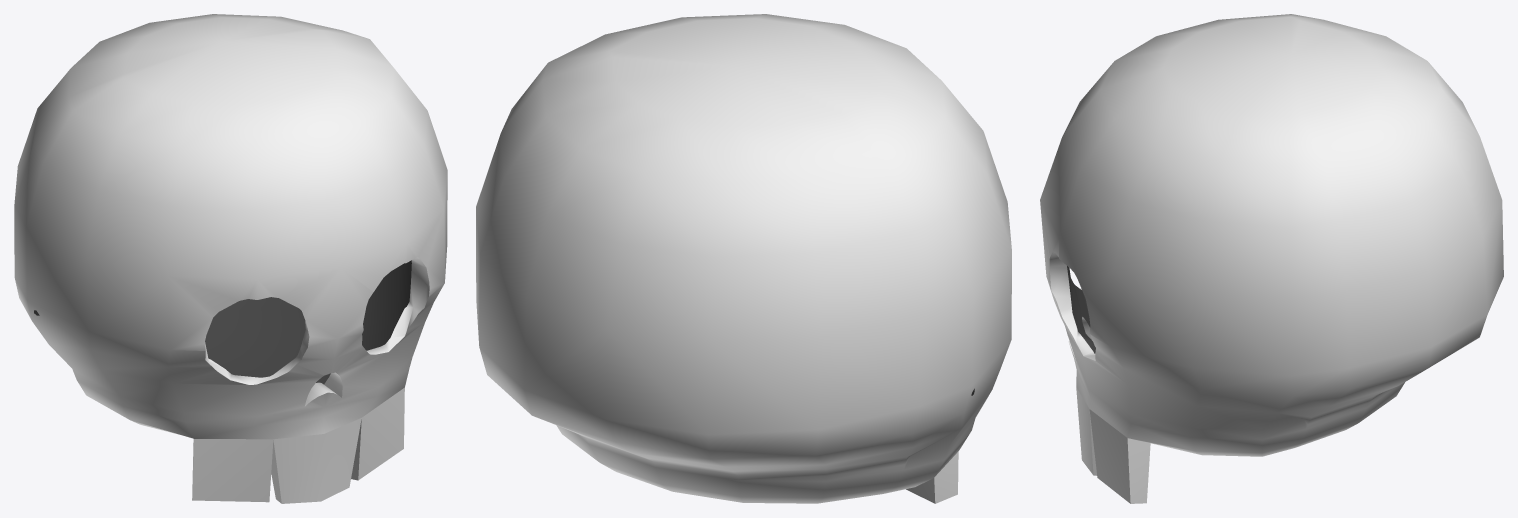
The model's file is skull.obj.
3 renders of one model, left to right at view 1: azimuth 30°, elevation 25°; view 2: azimuth 150°, elevation 25°; view 3: azimuth 270°, elevation 25°, orthographic. The views are drawn at different scales.
Parts seen in each view (by area): view 1: 球; view 2: 球; view 3: 球.
Part boxes in pixels (bbox=[...]): 球: bbox=[14, 14, 447, 503]; 球: bbox=[476, 14, 1011, 503]; 球: bbox=[1040, 14, 1503, 503].
Bounding box in the file's own units: 0.8726 × 0.8308 × 0.8566.
1 material, 1 textured.
